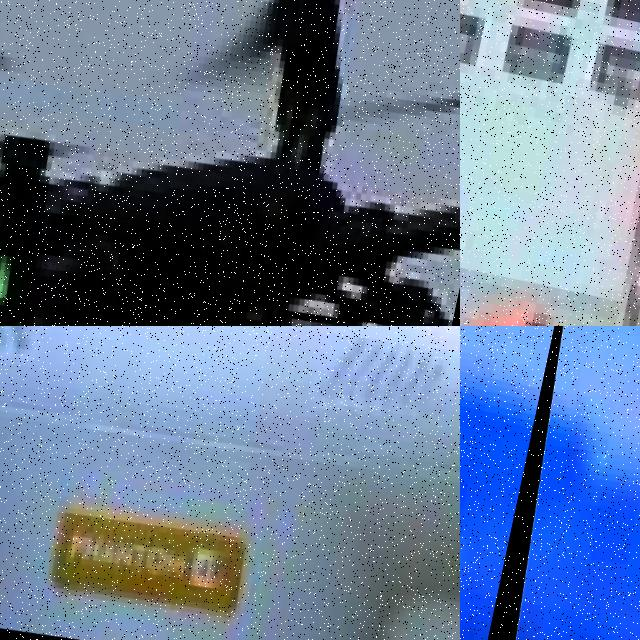0: (0, 326, 460, 640)
drone: (0, 0, 460, 326), (460, 326, 640, 640)
